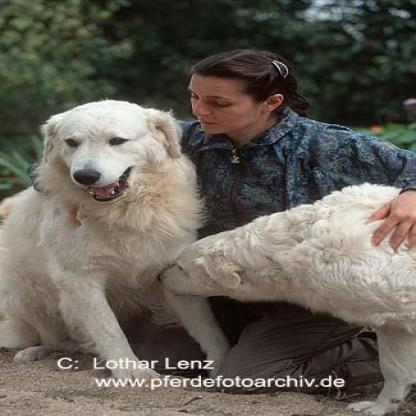kuvasz: (0, 99, 224, 383), (154, 182, 412, 414)
